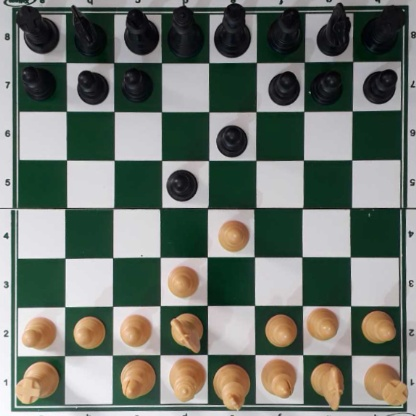black-bishop: (266, 7, 303, 54), (123, 7, 159, 54)
black-king: (215, 0, 251, 59)
black-knight: (71, 4, 107, 57), (317, 2, 350, 57)
black-pawn: (362, 67, 397, 104), (21, 65, 56, 100), (216, 121, 249, 156), (76, 68, 108, 104), (311, 68, 343, 103), (268, 69, 299, 104), (121, 67, 152, 101), (166, 168, 197, 201)
black-queen: (166, 6, 205, 56)
black-rook: (14, 6, 60, 52), (361, 6, 403, 53)
white-bishop: (261, 358, 297, 400), (120, 358, 154, 400)
white-king: (214, 361, 247, 410)
white-knight: (310, 361, 344, 411), (170, 311, 204, 352)
white-pawn: (19, 315, 58, 349), (166, 263, 200, 298), (118, 312, 152, 347), (361, 310, 397, 343), (263, 313, 296, 347), (216, 218, 249, 252), (307, 307, 339, 341), (72, 315, 105, 347)
white-queen: (166, 357, 208, 401)
white-rook: (15, 360, 60, 403), (363, 362, 408, 405)
